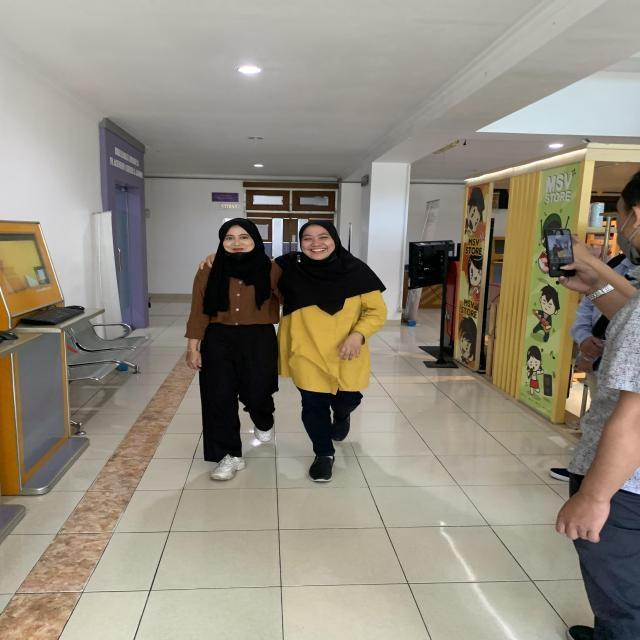hairnet: (218, 221, 260, 266)
